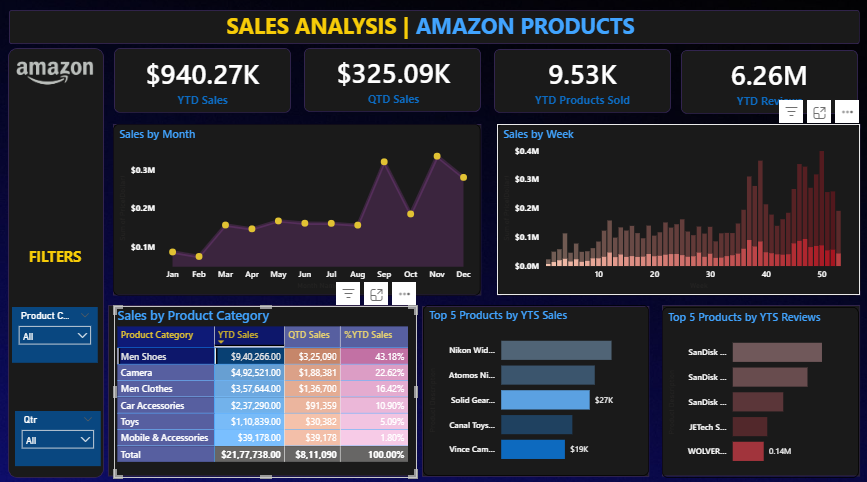

This screenshot's page, from the dashboard's own definition file:
{"tool":"powerbi","page":{"name":"Page 1","canvas":[1280,720],"ordinal":0},"visuals":[{"type":"shape","box":[14.3,17.9,1250,50],"z":0},{"type":"shape","box":[169,73.9,260,95.4],"z":0,"group":"g1"},{"type":"textbox","box":[329.3,13.8,625.9,56.9],"z":1000},{"type":"card","fields":{"Values":["Amazon_Data.YTD Sales"]},"box":[169,73.9,260,95.4],"z":1000,"group":"g1"},{"type":"shape","box":[13.2,73.5,141.1,631.8],"z":2000},{"type":"card","fields":{"Values":["Amazon_Data.YTD Sales"]},"box":[492.1,75.5,260,95.4],"z":2000,"group":"g1"},{"type":"group","id":"g1","title":"Group 1","box":[169,72.4,1093.1,98.3],"z":3000},{"type":"shape","box":[448.5,73.9,260,93.8],"z":3000,"group":"g1"},{"type":"shape","box":[728,75.5,260,93.8],"z":4000,"group":"g1"},{"type":"shape","box":[167.2,184.5,541.4,251.7],"z":4000},{"type":"card","fields":{"Values":["Amazon_Data.QTD Sales"]},"box":[449,72.4,260,95.4],"z":5000,"group":"g1"},{"type":"areaChart","title":"Sales by Month ","fields":{"Category":["Date Table.Month Name"],"Y":["Sum(Amazon_Data.Price(Dollar))"]},"box":[167.2,184.5,539.7,251.7],"z":5000},{"type":"shape","box":[1002.8,77,260,93.8],"z":6000,"group":"g1"},{"type":"shape","box":[731,184.5,534.5,251.7],"z":6000},{"type":"card","fields":{"Values":["Amazon_Data.YTD Products Sold"]},"box":[727.5,73.9,260,95.4],"z":7000,"group":"g1"},{"type":"columnChart","title":"Sales by Week","fields":{"Category":["Date Table.Week"],"Y":["Sum(Amazon_Data.Price(Dollar))"]},"box":[731,184.5,534.5,251.7],"z":7000},{"type":"card","fields":{"Values":["Amazon_Data.YTD Reviews"]},"box":[1002.8,75.5,260,95.4],"z":8000,"group":"g1"},{"type":"shape","box":[160.3,451.7,453.4,251.7],"z":8000},{"type":"shape","box":[621.5,452.3,333.8,250.8],"z":9000},{"type":"pivotTable","title":"Sales by Product Category","fields":{"Rows":["Amazon_Data.Product Category"],"Values":["Amazon_Data.YTD Sales1","Amazon_Data.QTD Sales","Amazon_Data.YTD Sales"]},"box":[169.2,452.3,444.6,252.3],"z":10000},{"type":"shape","box":[974.1,451.7,291.4,251.7],"z":11000},{"type":"clusteredBarChart","title":"Top 5 Products by YTS Sales","fields":{"Category":["Amazon_Data.Product Description"],"Y":["Amazon_Data.YTD Sales"]},"box":[623.1,450.8,332.3,250.8],"z":12000},{"type":"clusteredBarChart","title":"Top 5 Products by YTS Reviews","fields":{"Category":["Amazon_Data.Product Description"],"Y":["Amazon_Data.YTD Reviews"]},"box":[973.8,453.8,289.2,250.8],"z":13000},{"type":"slicer","fields":{"Values":["Amazon_Data.Product Category"]},"box":[20.6,307.1,126.4,82.3],"z":14000},{"type":"slicer","fields":{"Values":["Date Table.Qtr"]},"box":[20.6,424.7,126.4,80.8],"z":15000},{"type":"image","box":[19.1,67.6,129.3,91.1],"z":16000},{"type":"textbox","box":[23.5,229.2,117.6,57.3],"z":17000}]}

Visuals, with their boxes in screenshot pixels (x1, y1, x2, y2), scaled from the page's 1280x720 canvas onto the 867x482 screenshot:
shape: box(10, 12, 856, 45)
shape: box(114, 49, 291, 113)
textbox: box(223, 9, 647, 47)
card - Amazon_Data.YTD Sales: box(114, 49, 291, 113)
shape: box(9, 49, 105, 472)
card - Amazon_Data.YTD Sales: box(333, 51, 509, 114)
"Group 1" group: box(114, 48, 855, 114)
shape: box(304, 49, 480, 112)
shape: box(493, 51, 669, 113)
shape: box(113, 124, 480, 292)
card - Amazon_Data.QTD Sales: box(304, 48, 480, 112)
"Sales by Month " areaChart: box(113, 124, 479, 292)
shape: box(679, 52, 855, 114)
shape: box(495, 124, 857, 292)
card - Amazon_Data.YTD Products Sold: box(493, 49, 669, 113)
"Sales by Week" columnChart: box(495, 124, 857, 292)
card - Amazon_Data.YTD Reviews: box(679, 51, 855, 114)
shape: box(109, 302, 416, 471)
shape: box(421, 303, 647, 471)
"Sales by Product Category" pivotTable: box(115, 303, 416, 472)
shape: box(660, 302, 857, 471)
"Top 5 Products by YTS Sales" clusteredBarChart: box(422, 302, 647, 470)
"Top 5 Products by YTS Reviews" clusteredBarChart: box(660, 304, 855, 472)
slicer - Amazon_Data.Product Category: box(14, 206, 100, 261)
slicer - Date Table.Qtr: box(14, 284, 100, 338)
image: box(13, 45, 101, 106)
textbox: box(16, 153, 96, 192)
